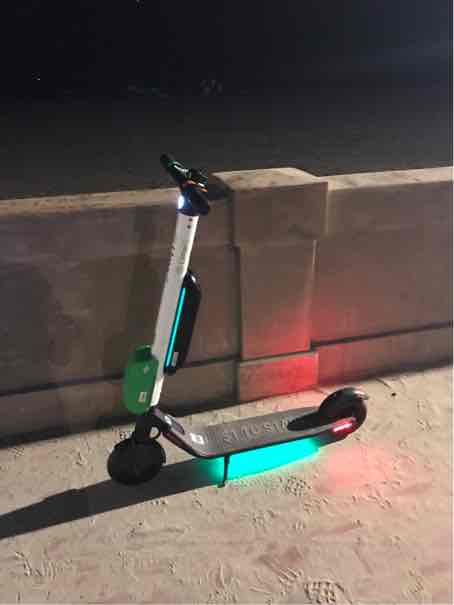scooter: (97, 144, 382, 499)
